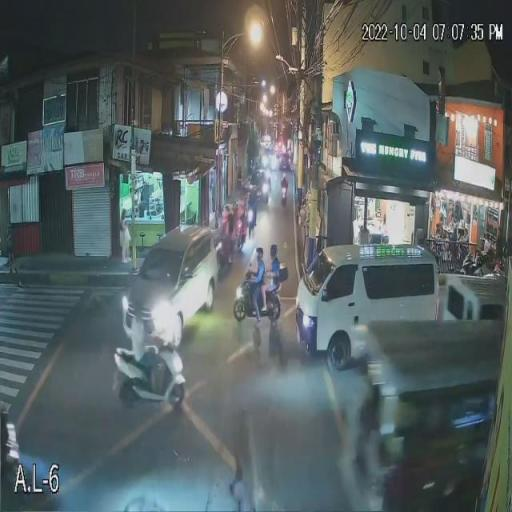helmet: (131, 302, 145, 323), (255, 247, 265, 264), (269, 245, 279, 261)
motorcycle: (118, 349, 186, 409), (233, 269, 286, 328), (280, 182, 288, 204)
rider: (129, 302, 148, 369), (252, 245, 265, 314), (267, 245, 280, 305), (282, 175, 287, 188)
